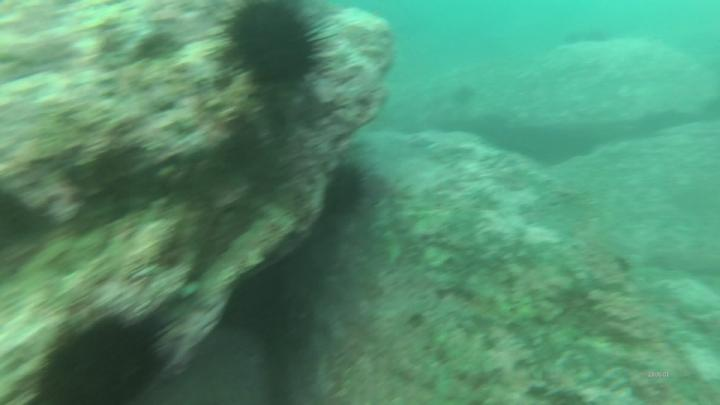echinus: (37, 309, 162, 405), (216, 1, 328, 89), (324, 162, 363, 220)
